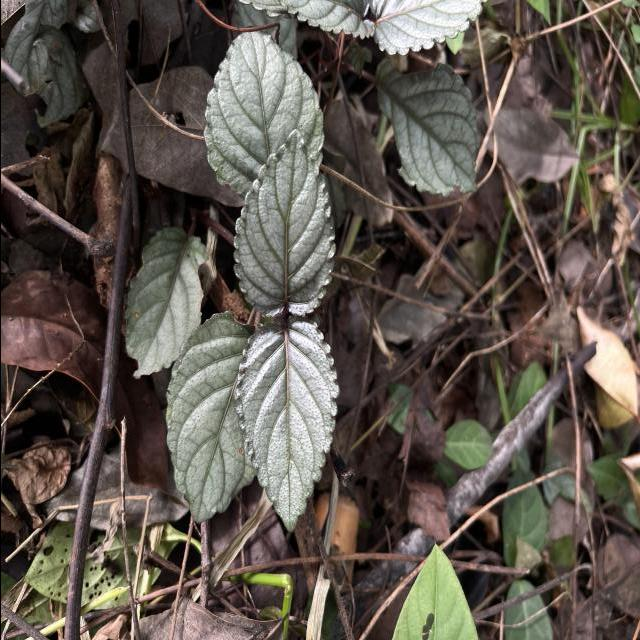Hemigraphis colorata: (230, 312, 342, 534), (202, 21, 326, 202), (230, 126, 340, 318), (164, 306, 258, 527), (372, 56, 482, 200), (120, 224, 212, 382), (370, 0, 489, 57)
